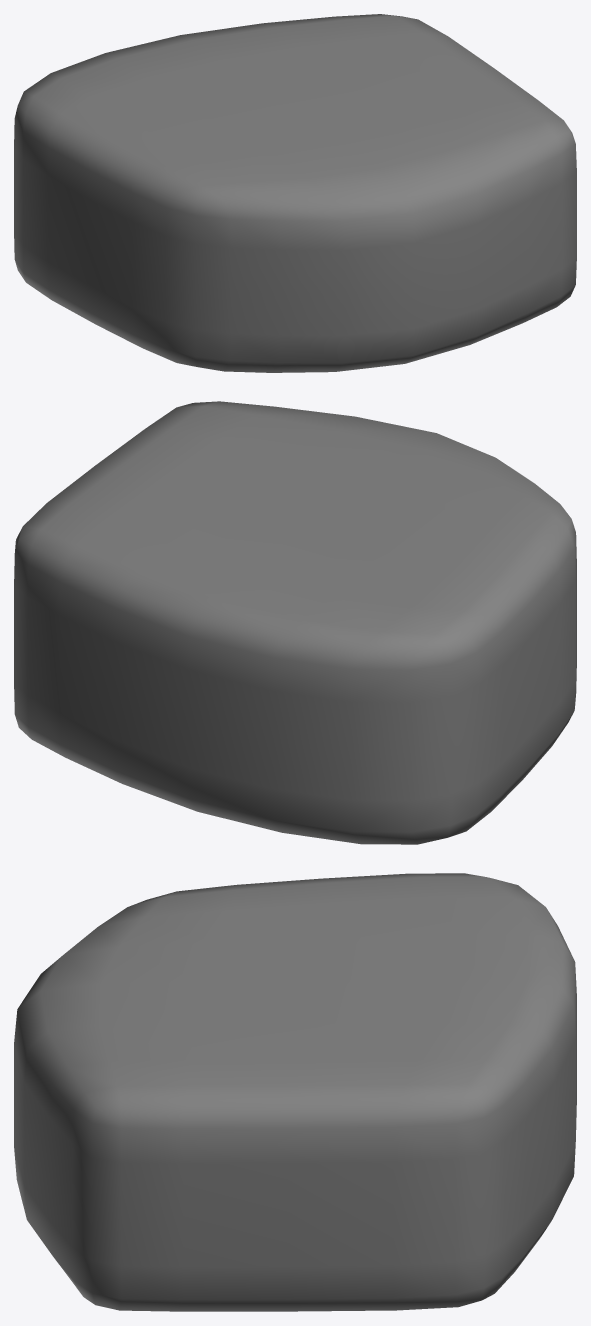
The model's file is stone2.fbx.
3 views of the same model, one above another, from view 1: azimuth 30°, elevation 25°; view 2: azimuth 150°, elevation 25°; view 3: azimuth 270°, elevation 25° (orthographic). The views are drawn at different scales.
Visible parts, largest first — view 1: Cube.043; view 2: Cube.043; view 3: Cube.043.
Boxes of the visible parts, <box> form: Cube.043: <box>14,14,576,372</box>; Cube.043: <box>14,401,576,844</box>; Cube.043: <box>14,873,576,1311</box>.
Size of the model in its own units: 0.8691 by 0.8505 by 0.3679.
